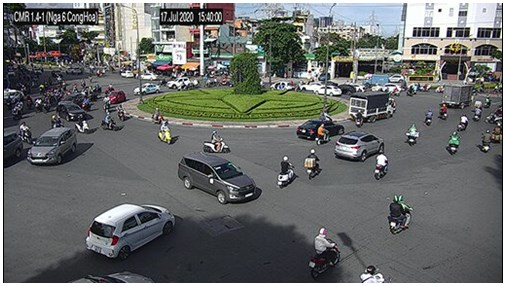xe_ban_tai: (167, 77, 196, 89)
xe_hoi: (84, 202, 177, 262), (178, 151, 258, 205), (27, 127, 77, 164), (335, 131, 384, 162), (296, 120, 345, 137), (56, 102, 85, 123), (134, 83, 160, 96), (371, 84, 400, 93), (106, 90, 126, 103), (336, 84, 355, 96), (270, 81, 295, 90), (299, 81, 323, 90), (315, 87, 341, 95), (139, 71, 158, 81), (350, 82, 366, 92), (121, 70, 133, 78)
xe_may: (309, 226, 340, 279), (389, 195, 411, 235), (276, 156, 295, 189), (204, 131, 230, 154), (304, 149, 319, 181), (374, 150, 389, 180), (316, 123, 331, 148), (100, 112, 119, 131), (406, 121, 419, 147), (158, 120, 171, 145), (18, 122, 31, 144), (151, 107, 166, 125), (76, 115, 89, 134), (481, 128, 490, 154), (448, 130, 457, 155), (355, 108, 365, 128), (491, 122, 500, 143), (117, 104, 128, 121), (423, 107, 432, 127), (459, 112, 468, 132), (103, 93, 112, 113), (473, 103, 482, 120), (438, 104, 448, 119), (52, 115, 65, 126), (42, 98, 50, 115), (16, 98, 25, 113), (435, 83, 446, 95), (33, 97, 41, 112), (25, 94, 32, 110), (418, 84, 432, 92), (176, 81, 185, 92), (38, 82, 45, 96), (407, 85, 416, 95), (13, 106, 19, 120), (79, 77, 87, 87), (87, 72, 94, 82)
xe_tai: (350, 93, 397, 121), (444, 83, 476, 109)
